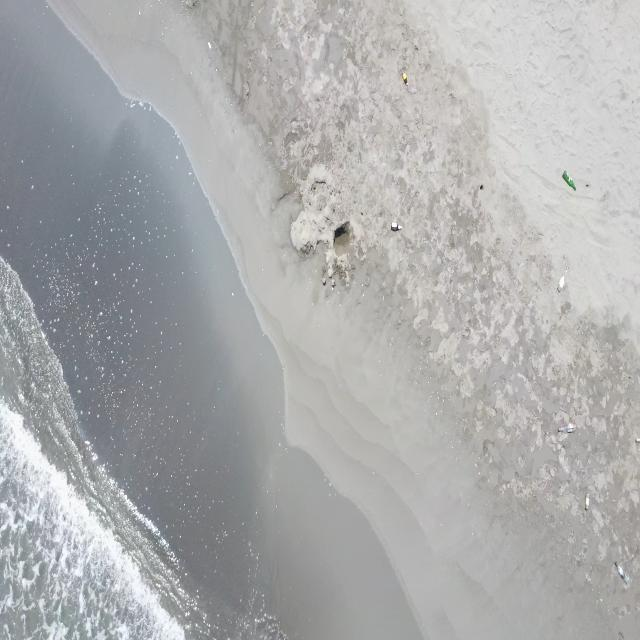glass: (615, 561, 630, 585), (556, 266, 568, 293), (562, 170, 576, 191), (558, 424, 575, 434), (390, 222, 402, 232), (402, 71, 409, 87), (584, 493, 590, 510)
